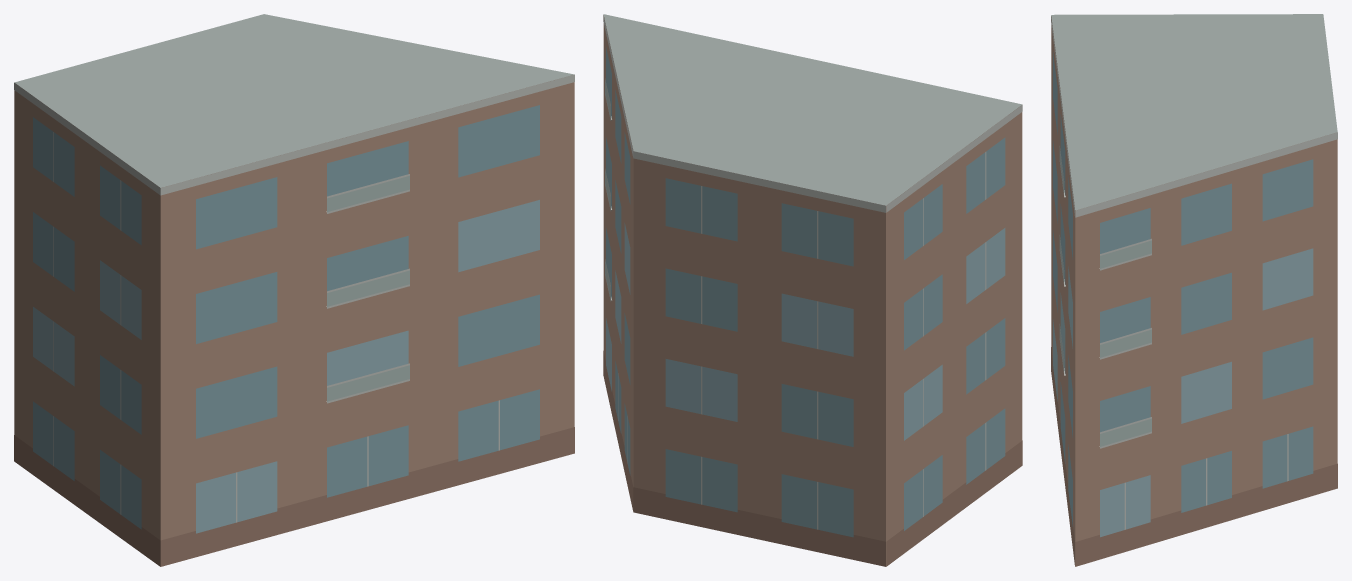
The model's file is survey-upis-32704616.glb.
3 views of the same model, side by side, from view 1: azimuth 30°, elevation 25°; view 2: azimuth 150°, elevation 25°; view 3: azimuth 270°, elevation 25° (orthographic). The views are drawn at different scales.
Parts seen in each view (by area): view 1: survey-upis-32704616.tmp; view 2: survey-upis-32704616.tmp; view 3: survey-upis-32704616.tmp.
Part boxes in pixels (x1=…): survey-upis-32704616.tmp: x1=14, y1=14, x2=574, y2=566; survey-upis-32704616.tmp: x1=603, y1=14, x2=1022, y2=566; survey-upis-32704616.tmp: x1=1051, y1=14, x2=1337, y2=566.
Size of the model in its own units: 14.45 by 12.2 by 8.9.
